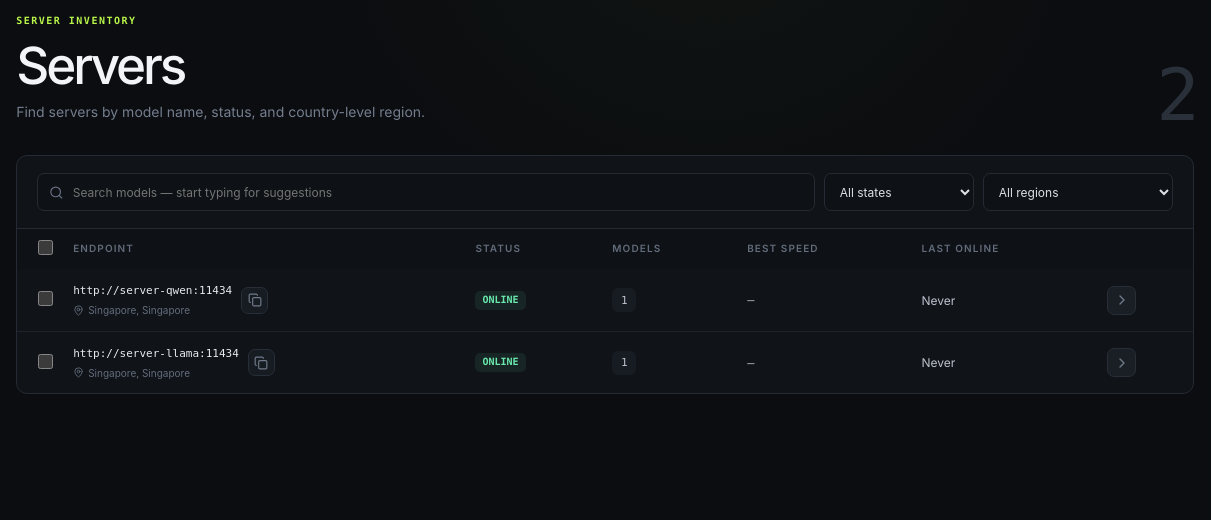
Test: server bulk actions › exports the current selection as Sub2API JSON
This screenshot has width=1211, height=520.
Click the checkbox named "Select http://server-qwen:11434" at x=45, y=298, box [38,291,53,306]
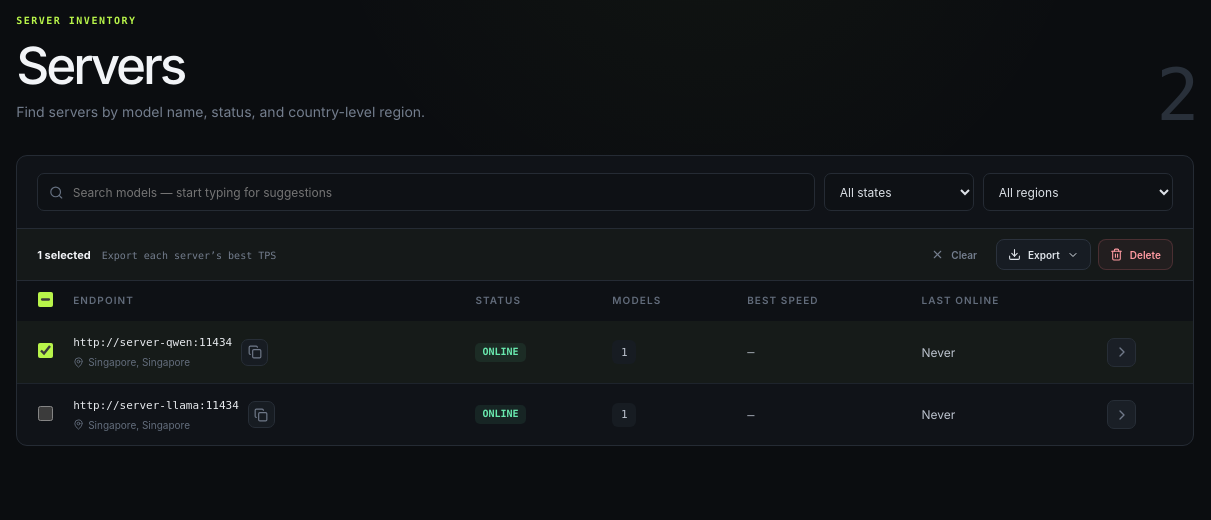
Click the checkbox named "Select http://server-llama:11434" at x=45, y=413, box [38,406,53,420]
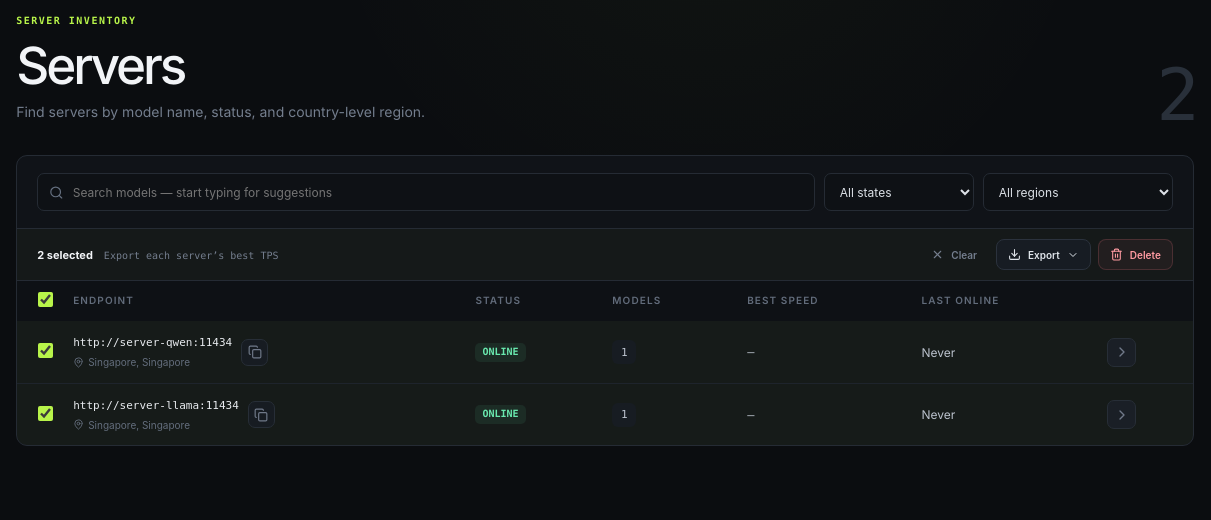
Click the button "Export" at x=1043, y=255, box [996,239,1091,270]
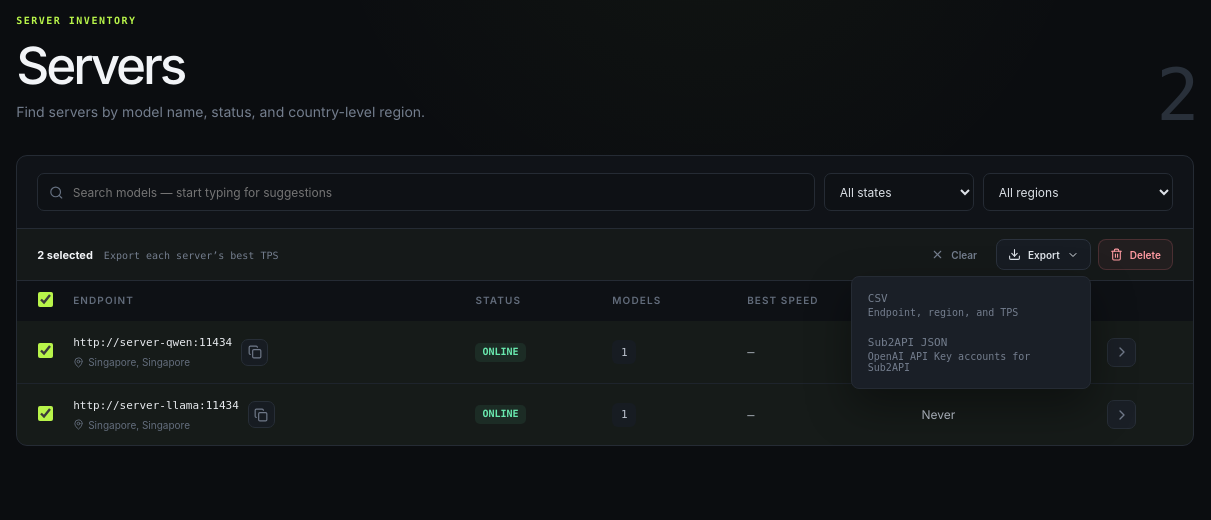
Click the menu item "Sub2API JSON OpenAI API Key accounts for Sub2API" at x=971, y=355, box [858,327,1084,382]
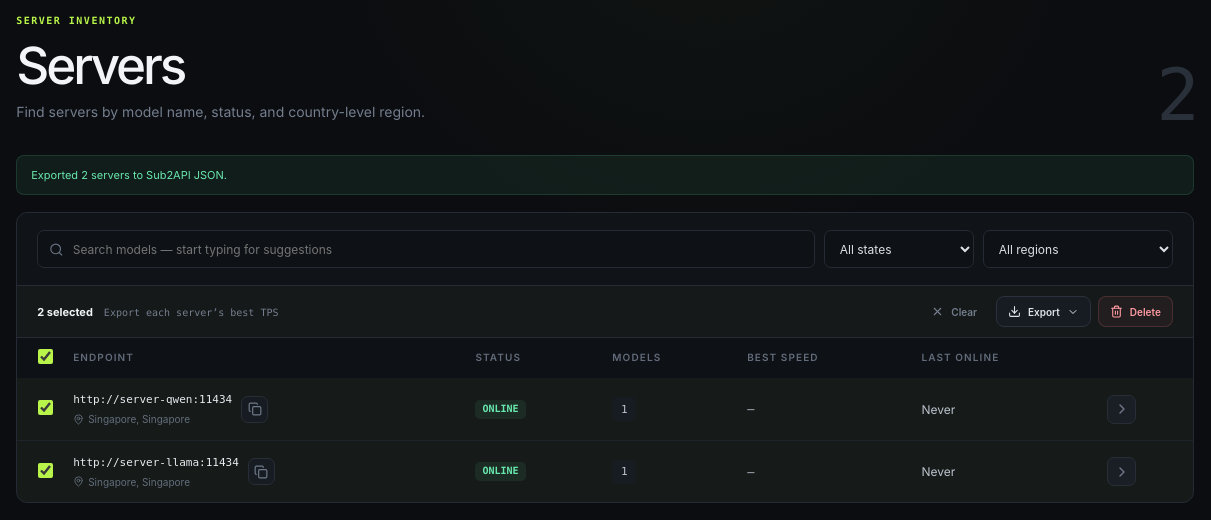
Expected: the text "Exported 2 servers to Sub2API JSON." is shown, [16,155,1194,195]
